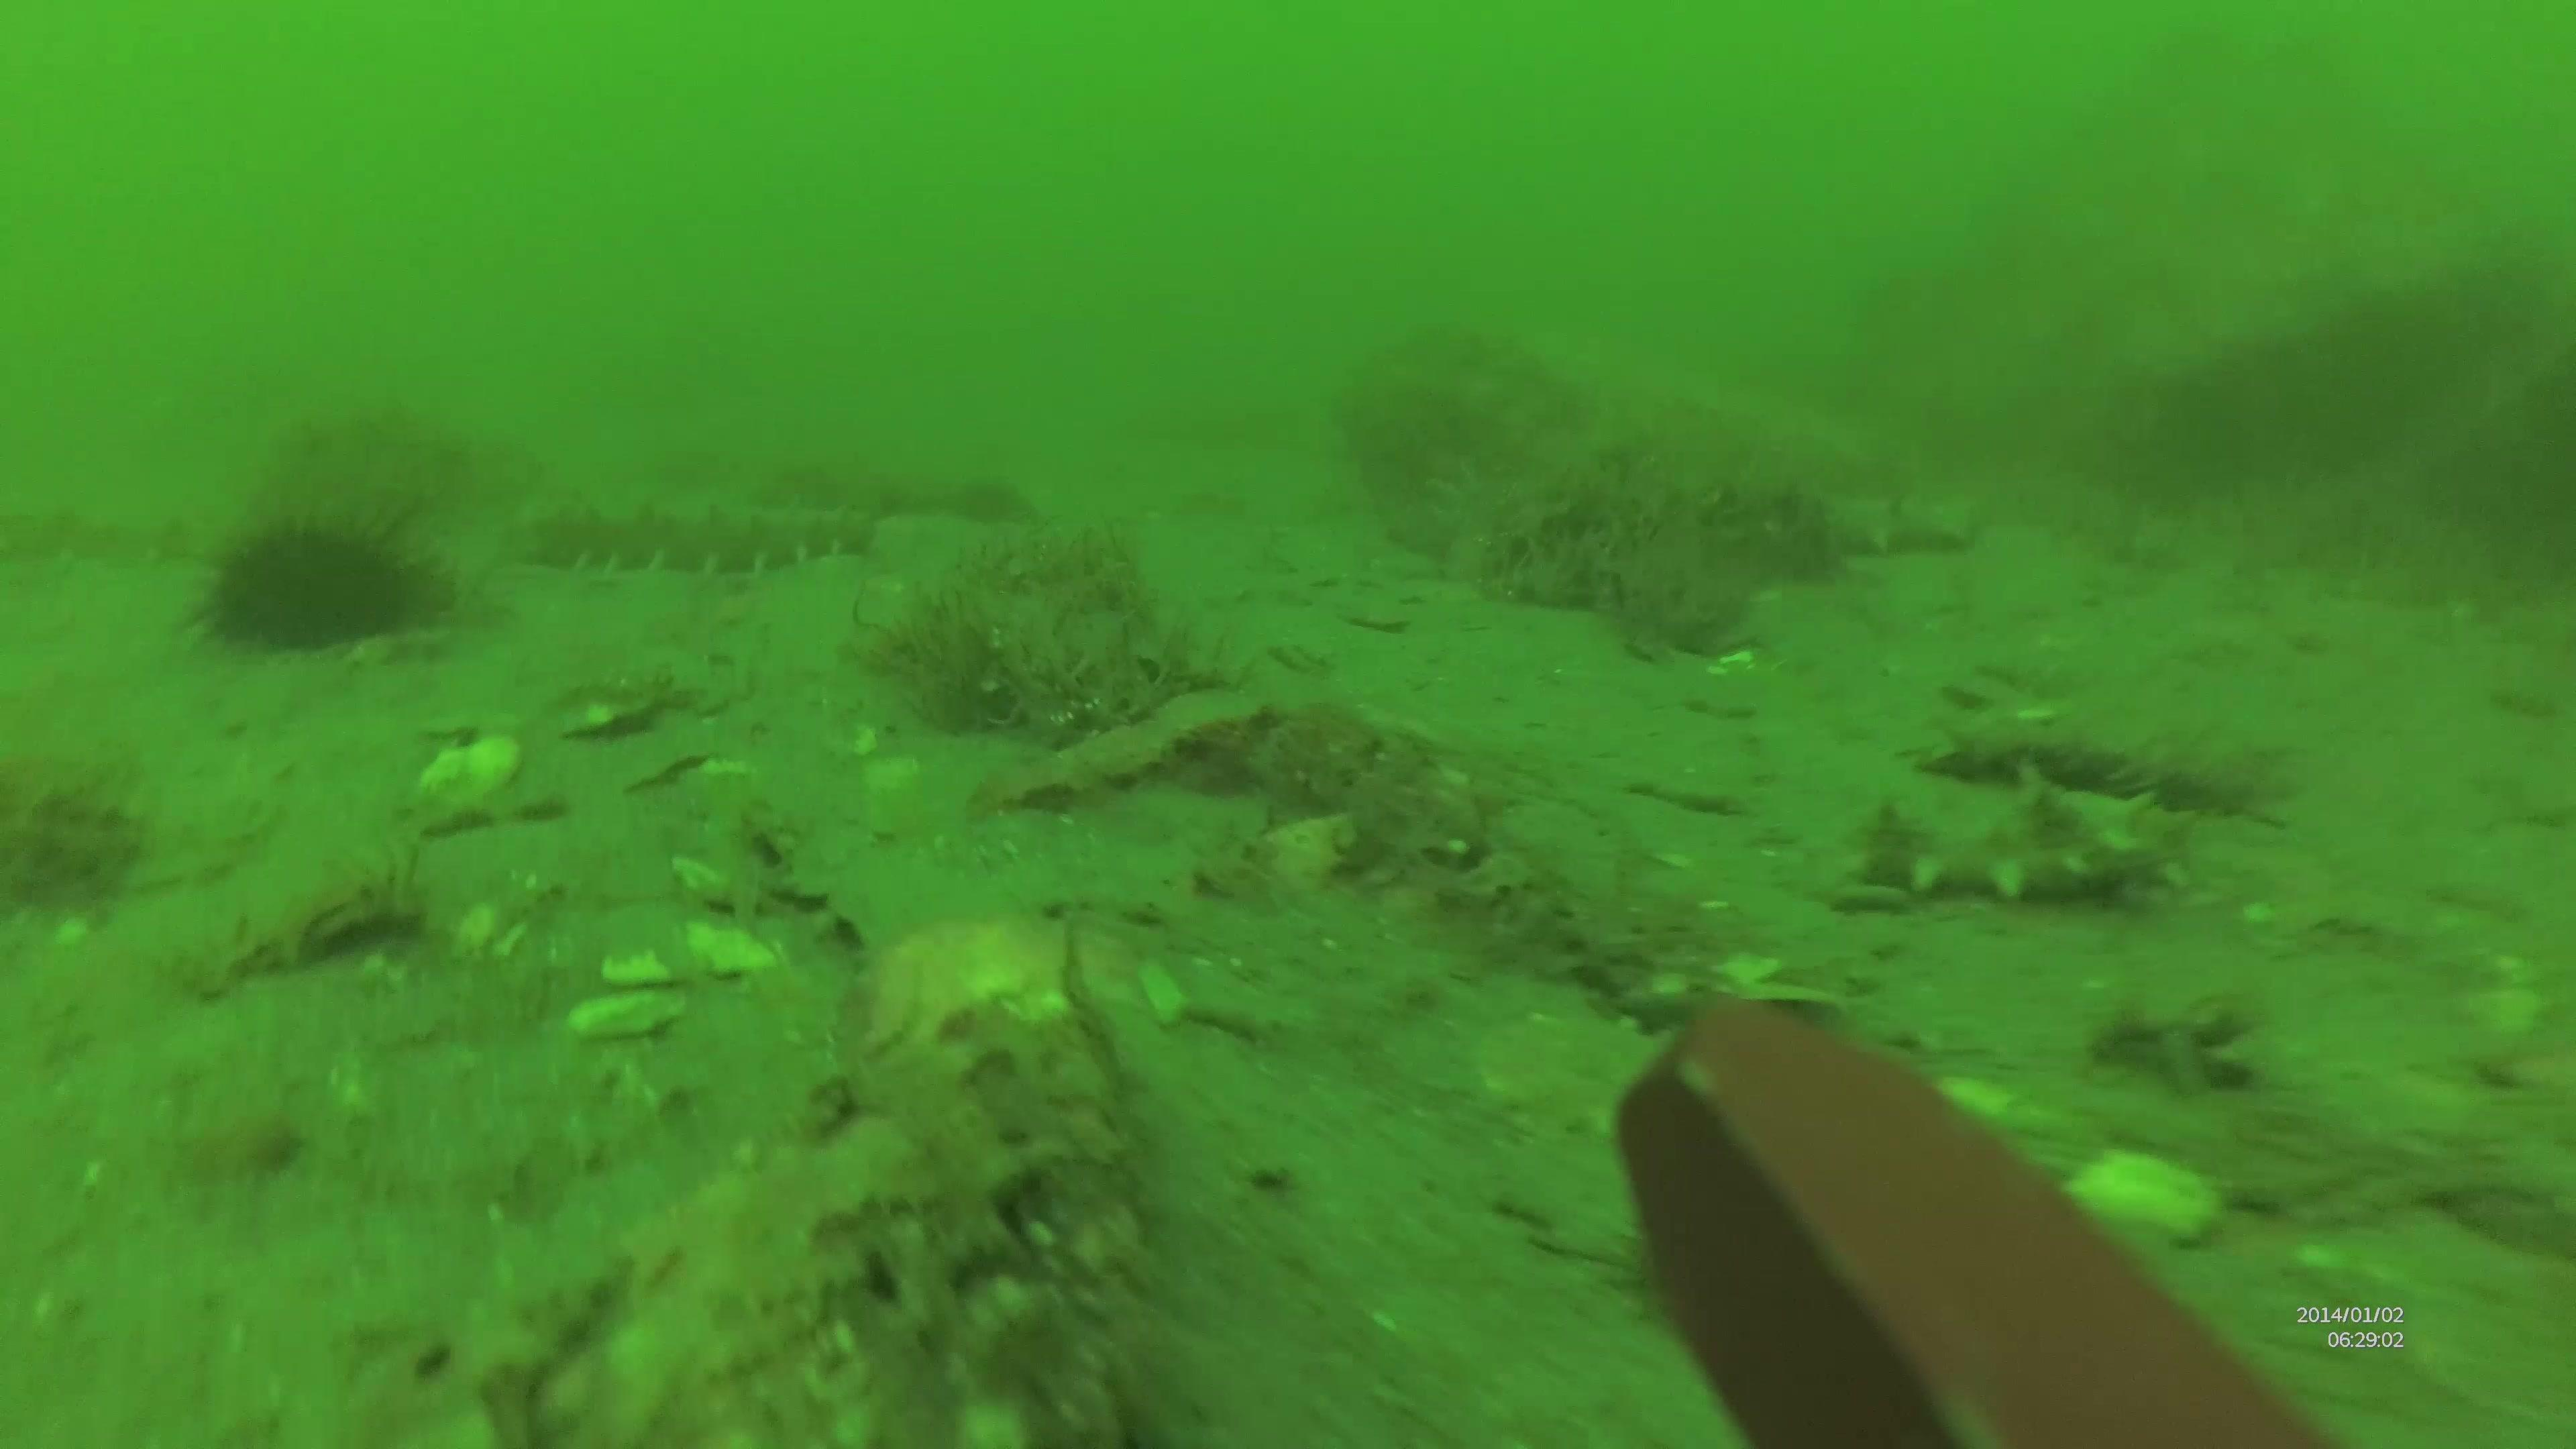echinus: (195, 511, 455, 658)
holothurian: (1902, 711, 2309, 821), (1865, 775, 2190, 908), (492, 497, 881, 573), (1714, 492, 1980, 556)
